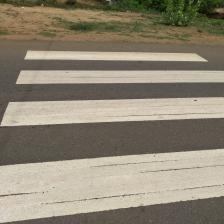crossing: (25, 48, 211, 218), (0, 151, 224, 212), (1, 97, 223, 126), (15, 69, 224, 84), (24, 50, 208, 62)
